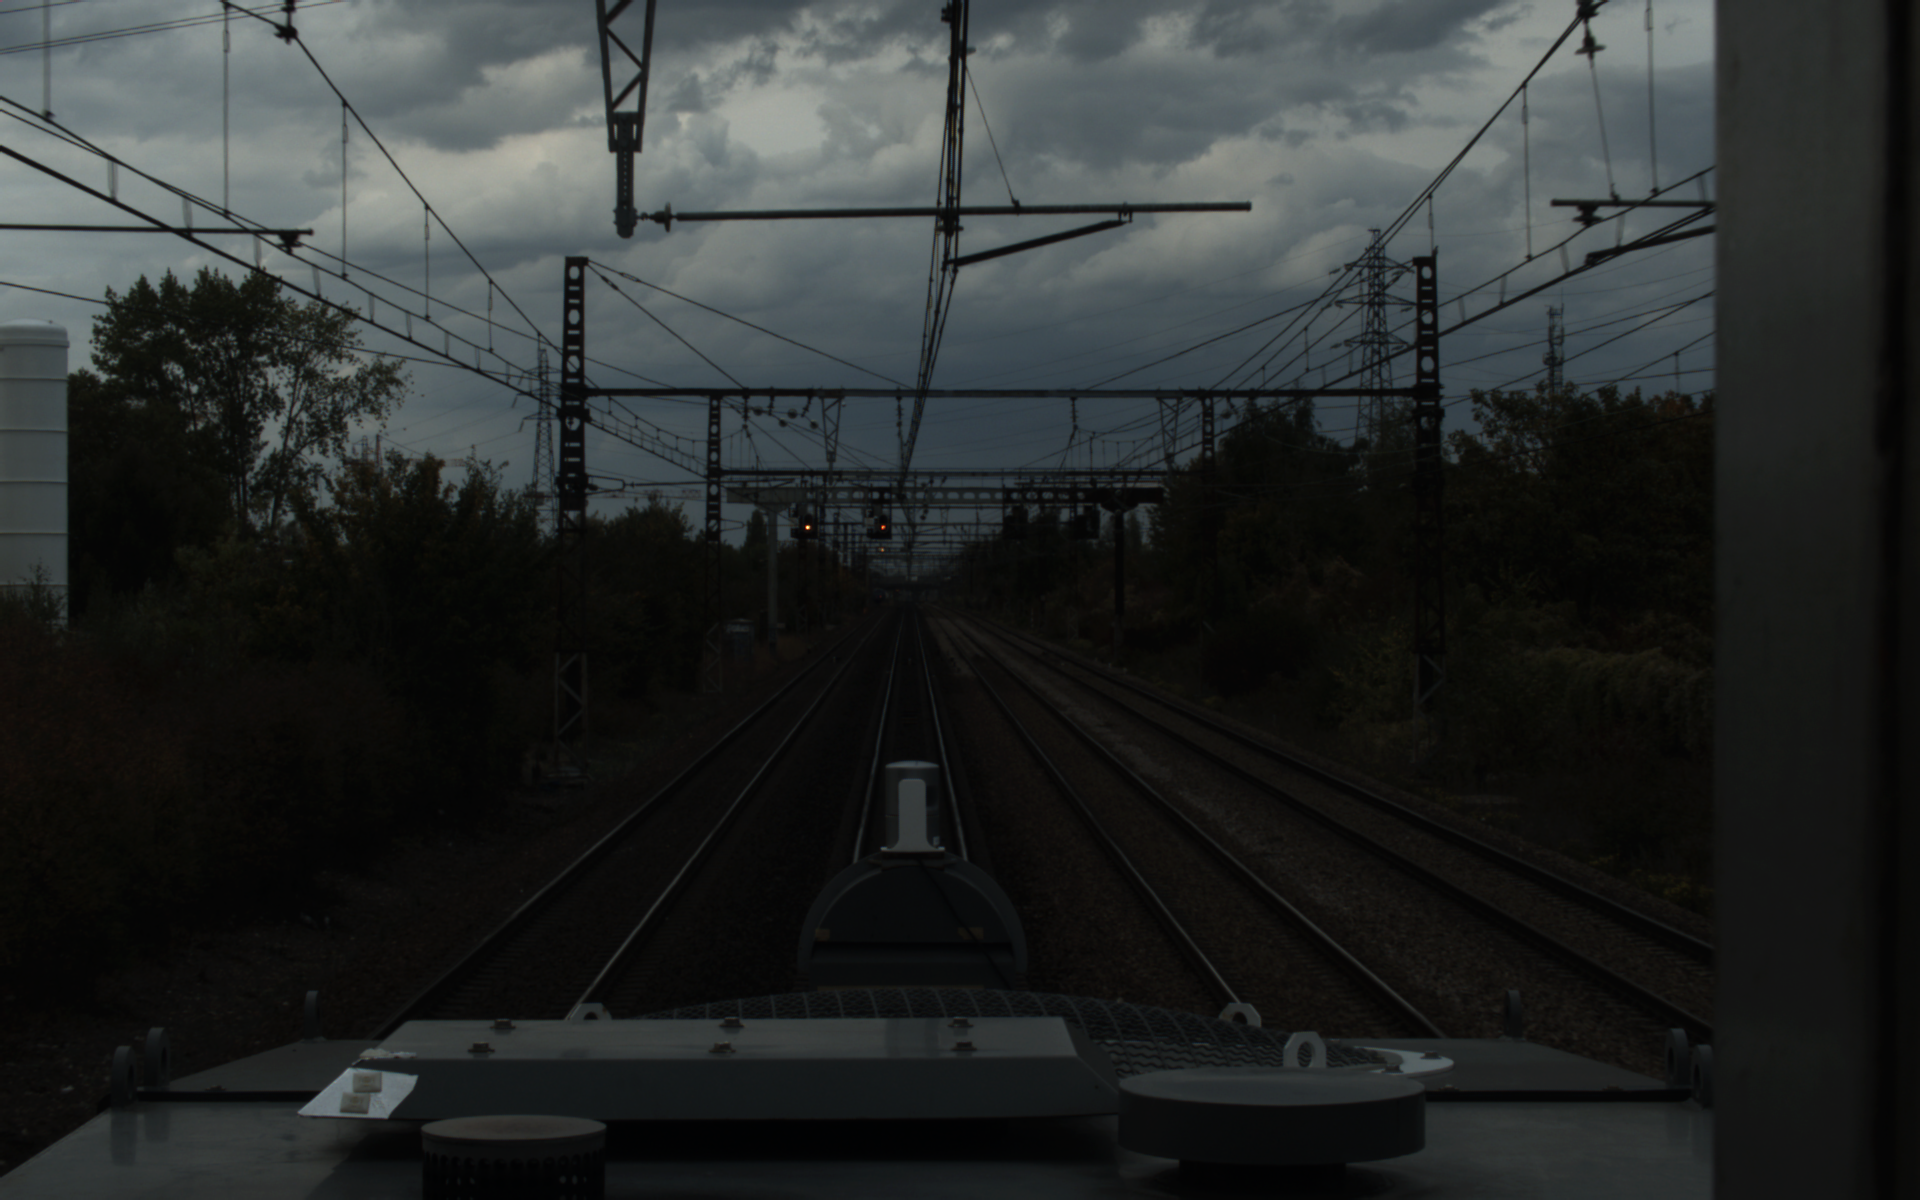Blinking: (876, 513, 890, 534)
Fixed: (800, 512, 816, 534)
